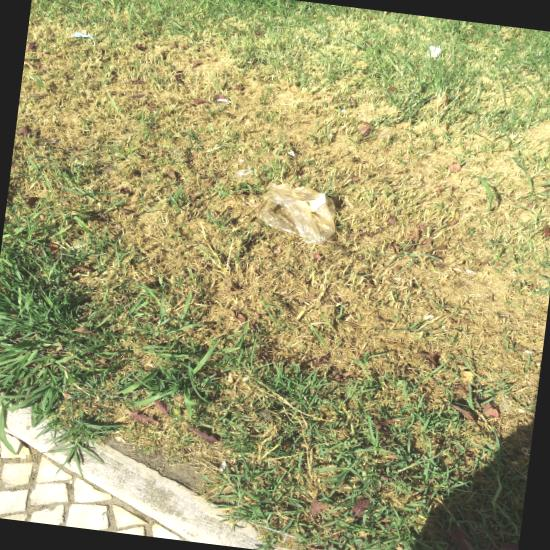Plastic film: (256, 182, 336, 244), (235, 171, 252, 178)
Unlabeled litter: (428, 46, 441, 58)
